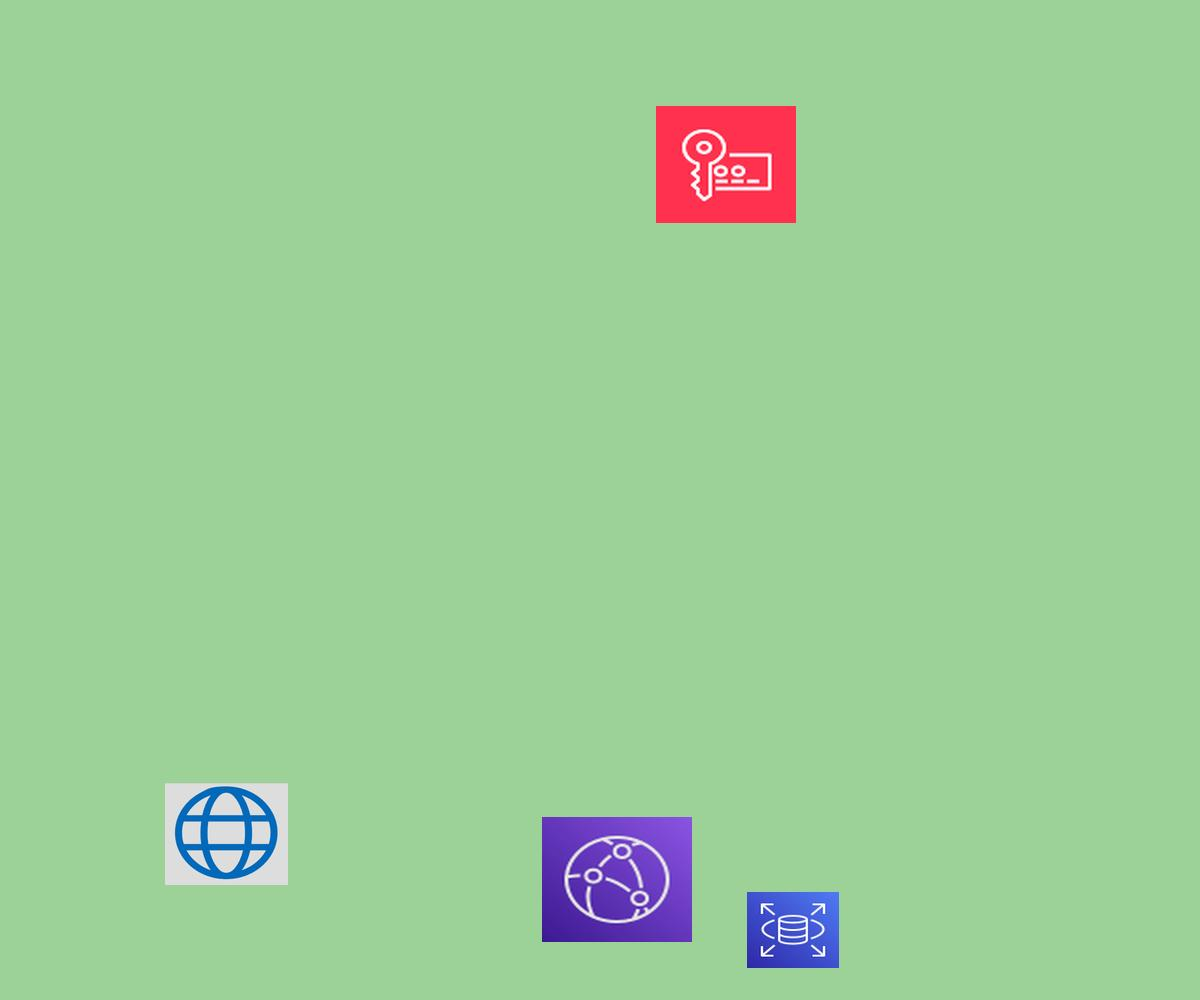AWS-CloudFront: (542, 817, 692, 942)
AWS-Key-Management-Service: (656, 106, 796, 223)
AWS-RDS: (747, 892, 839, 968)
Azure_http: (165, 783, 288, 885)
